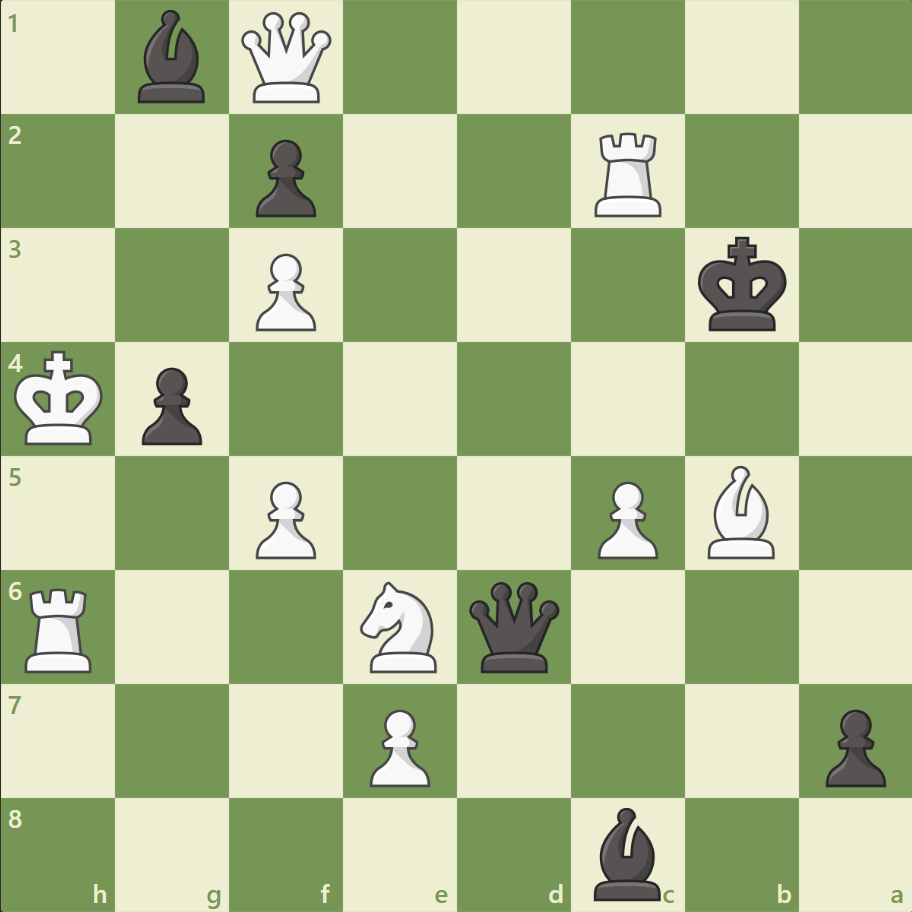B: (698, 460, 782, 563)
K: (11, 344, 111, 452)
N: (351, 575, 449, 677)
P: (247, 473, 322, 564), (247, 246, 322, 337), (361, 700, 435, 791), (588, 473, 662, 564)
Q: (237, 9, 336, 108)
R: (19, 579, 102, 676), (587, 125, 670, 222)
b: (585, 801, 669, 904), (131, 6, 215, 109)
k: (692, 231, 792, 339)
p: (133, 359, 208, 450), (247, 132, 322, 223), (815, 700, 889, 791)
q: (464, 576, 563, 676)
